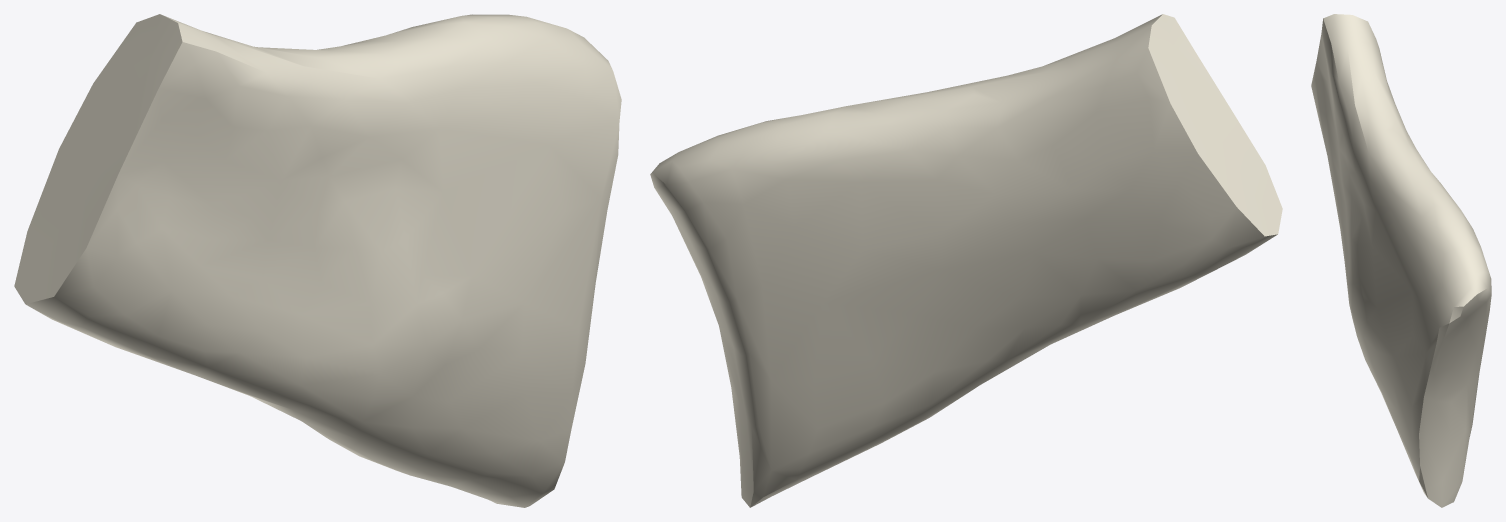
Rendered from fma323748-r_mm2014.glb.
3 views of the same model, side by side, from view 1: azimuth 30°, elevation 25°; view 2: azimuth 150°, elevation 25°; view 3: azimuth 270°, elevation 25° (orthographic). The views are drawn at different scales.
Parts seen in each view (by area): view 1: FMA323748-R_MM2014; view 2: FMA323748-R_MM2014; view 3: FMA323748-R_MM2014.
Boxes of the visible parts, <box> form: FMA323748-R_MM2014: <box>14,14,621,507</box>; FMA323748-R_MM2014: <box>650,14,1282,507</box>; FMA323748-R_MM2014: <box>1311,14,1491,507</box>.
Bounding box in the file's own units: 0.00912 × 0.00829 × 0.00365.
